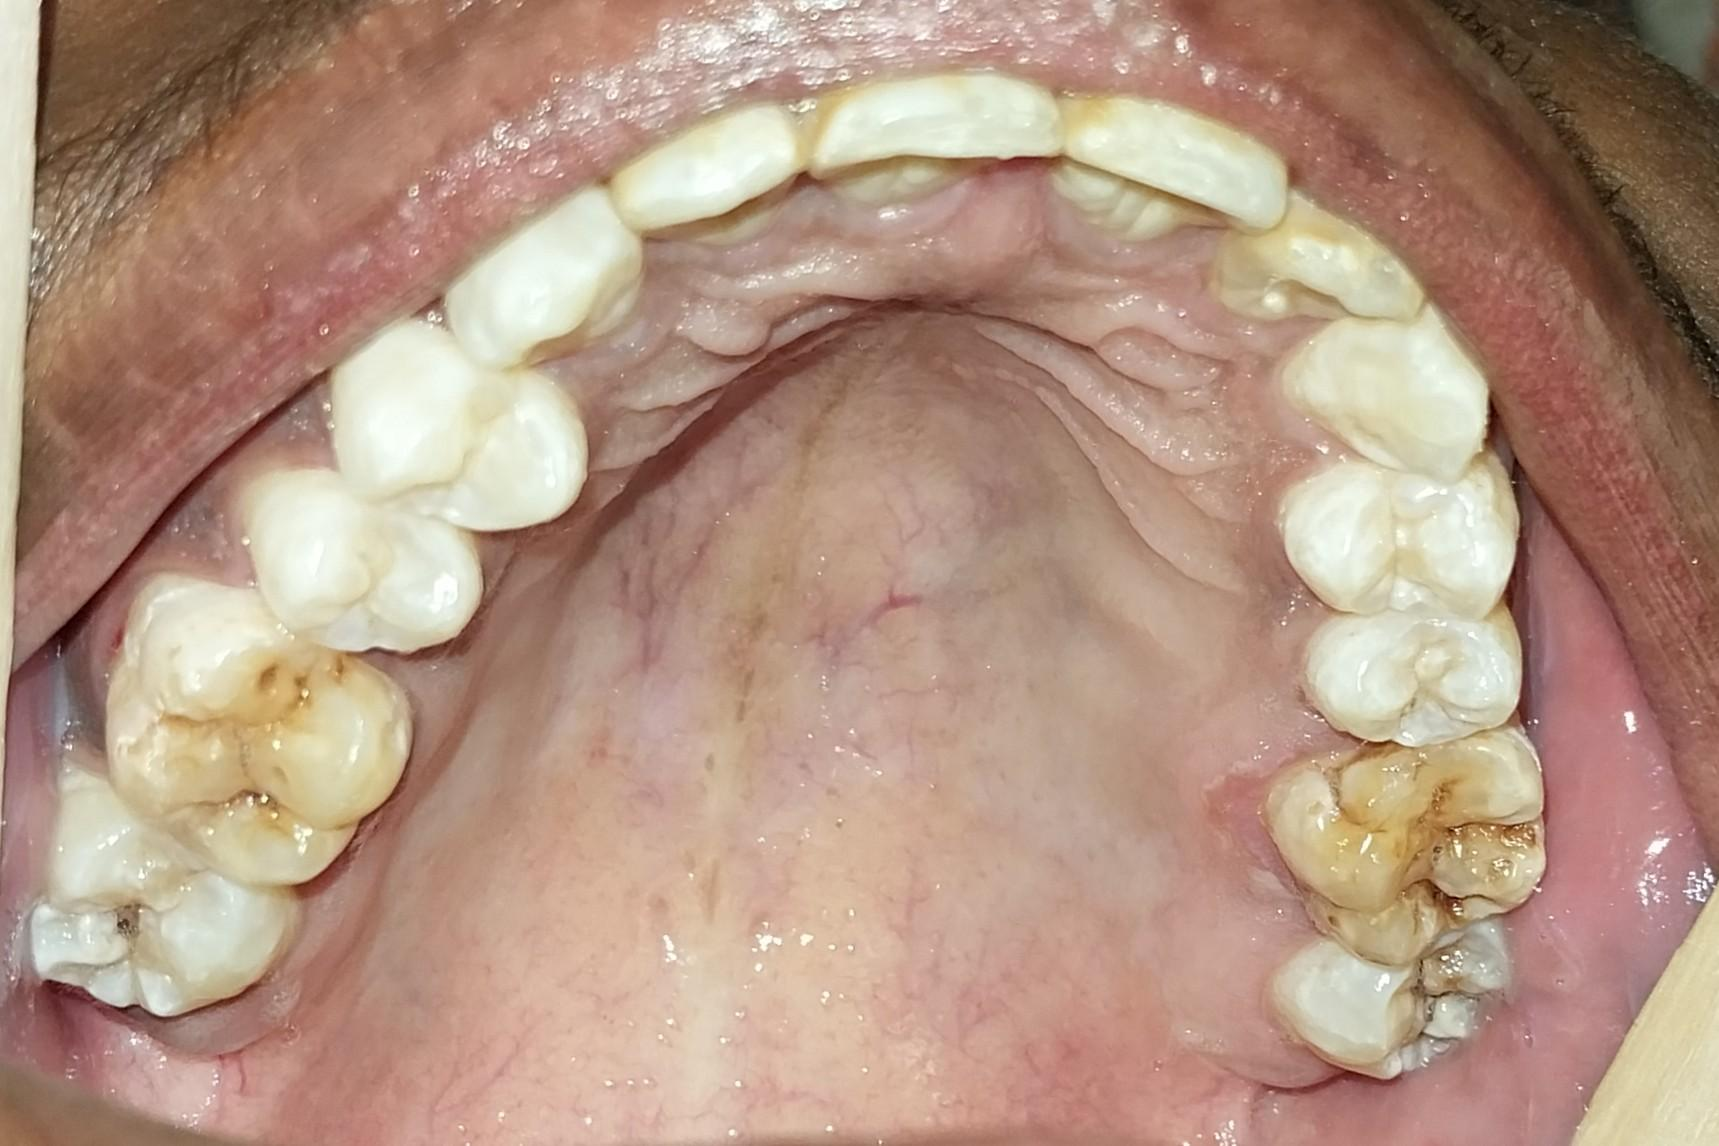D: (121, 575, 405, 882), (1283, 721, 1544, 958), (33, 781, 286, 1010), (1287, 927, 1520, 1074)
